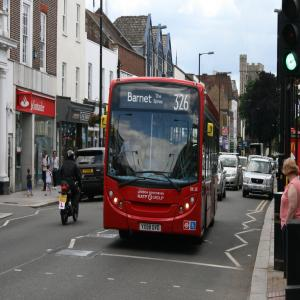Vehicle-registration-plate: (140, 225, 163, 232), (60, 196, 67, 204), (252, 187, 263, 190), (84, 171, 94, 174)
